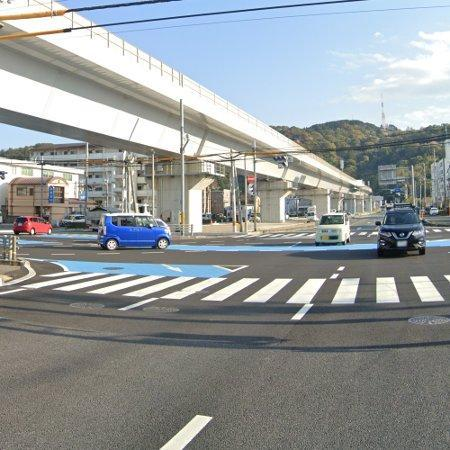crosswalks: (17, 273, 450, 304)
